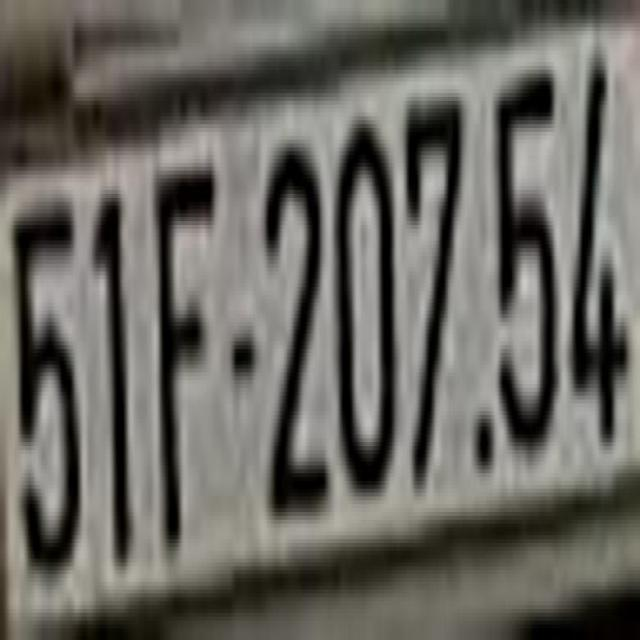0: (335, 112, 395, 512)
1: (88, 151, 130, 586)
2: (258, 148, 330, 528)
4: (573, 31, 636, 454)
5: (10, 178, 83, 613), (494, 50, 559, 458)
7: (401, 81, 460, 516)
F: (145, 155, 214, 570)
